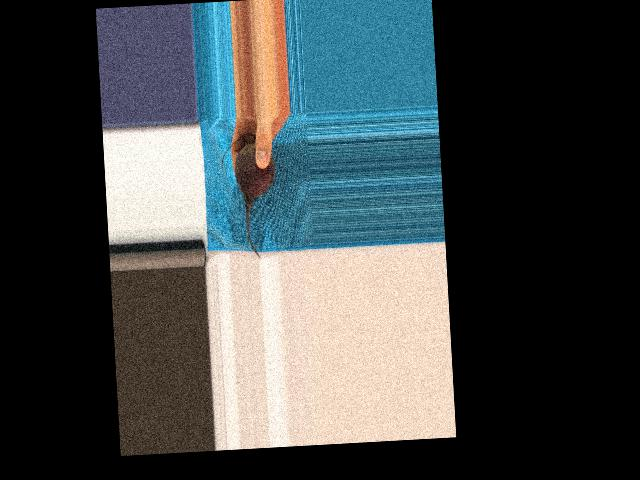beet: (220, 132, 280, 260)
